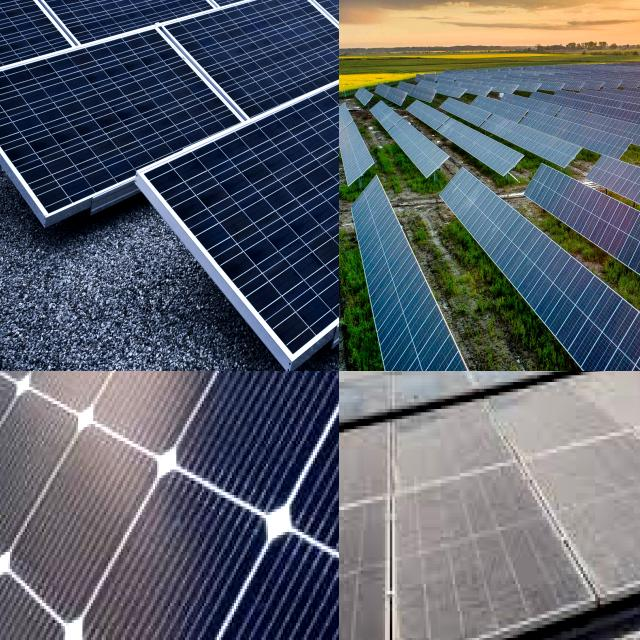crack: (0, 371, 339, 640), (138, 83, 339, 365), (0, 17, 251, 218), (162, 0, 339, 141), (27, 0, 230, 69), (0, 0, 76, 147), (173, 0, 328, 43), (67, 0, 208, 24), (174, 0, 304, 22), (169, 0, 284, 19), (278, 0, 339, 35), (0, 0, 97, 21), (248, 0, 324, 23), (275, 0, 276, 2)
dust: (395, 491, 556, 614), (572, 461, 640, 559)
